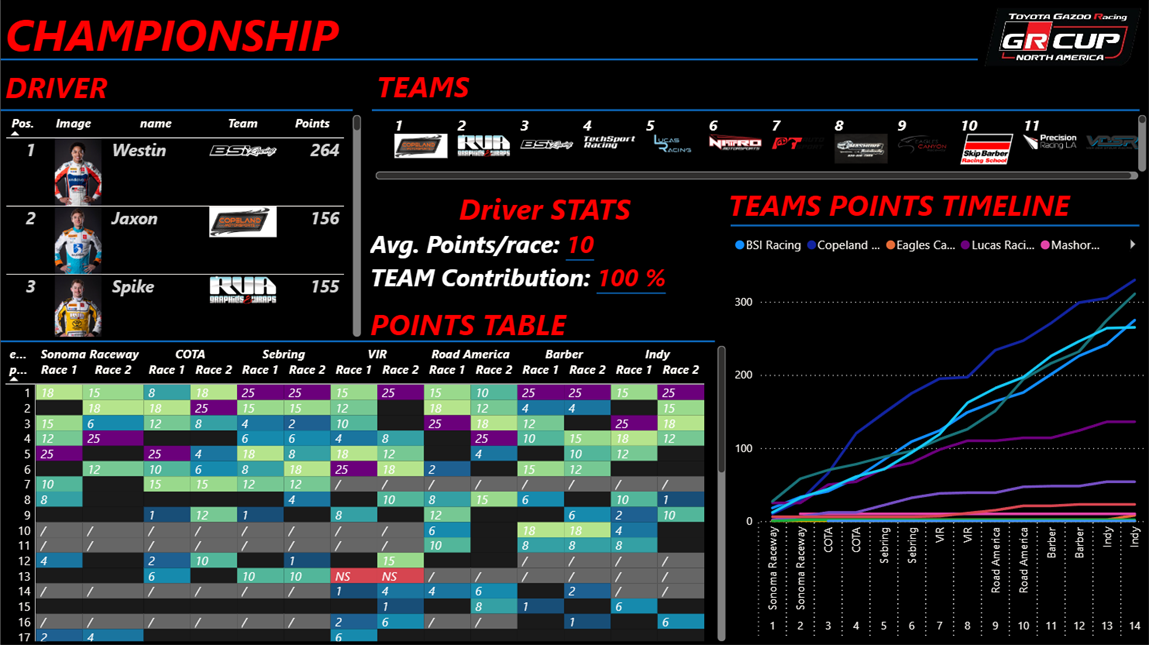

The dashboard page shown, as its layout file describes it:
{"tool":"powerbi","page":{"name":"Chamiponship","canvas":[1280,720],"ordinal":0},"visuals":[{"type":"image","box":[1087.8,0,192.2,82.2],"z":0},{"type":"pivotTable","fields":{"Rows":["t_driver_summary.position"],"Values":["Min(t_points_table.points)"],"Columns":["event_to_order.event_name","t_event_info.meta_session_name"]},"box":[0,380.5,812.2,339.5],"z":1000},{"type":"tableEx","fields":{"Values":["t_driver_summary.position1","t_driver_summary.driver_image_url","t_driver_summary.name","t_team_info.team_image_url","t_driver_summary.total_points"]},"box":[0,123.6,406.4,257.3],"z":2000},{"type":"pivotTable","fields":{"Columns":["t_team_info.SeasonTeamRank","t_team_info.team_image_url"]},"box":[412,123,868,82],"z":3000},{"type":"textbox","box":[0,70,480,54],"z":4000},{"type":"textbox","box":[413.2,69,480.4,54.3],"z":5000},{"type":"textbox","box":[406.3,338.1,304.5,43.1],"z":6000},{"type":"shape","box":[0,112.7,391.8,20],"z":7000},{"type":"shape","box":[412.7,112.7,854.5,20],"z":8000},{"type":"shape","box":[0,370.9,795.3,19],"z":9000},{"type":"textbox","box":[0,0,464.4,76.7],"z":10000},{"type":"shape","box":[0,56.9,1087.7,19.2],"z":11000},{"type":"textbox","box":[406.3,205.3,398.5,132.8],"z":12000},{"type":"lineChart","fields":{"Y":["d_team_points.cum_pointsNum"],"Series":["d_team_points.team_name"],"Category":["d_team_points.event_uuid","d_team_points.meta_event_name"]},"box":[811.8,252.7,468.2,467.3],"z":13000},{"type":"textbox","box":[804.7,205.3,395.9,43.1],"z":14000},{"type":"shape","box":[812.5,241.5,455.4,19.8],"z":15000}]}

Visuals, with their boxes in screenshot pixels (x1, y1, x2, y2), scaled from the page's 1280x720 canvas onto the 1149x645 screenshot:
image: select_region(976, 0, 1148, 74)
pivotTable - t_driver_summary.position x Min(t_points_table.points): select_region(0, 341, 729, 644)
tableEx - t_driver_summary.position1 x t_driver_summary.driver_image_url: select_region(0, 111, 365, 341)
pivotTable - t_team_info.SeasonTeamRank x t_team_info.team_image_url: select_region(370, 110, 1148, 184)
textbox: select_region(0, 63, 431, 111)
textbox: select_region(371, 62, 802, 110)
textbox: select_region(365, 303, 638, 341)
shape: select_region(0, 101, 352, 119)
shape: select_region(370, 101, 1138, 119)
shape: select_region(0, 332, 714, 349)
textbox: select_region(0, 0, 417, 69)
shape: select_region(0, 51, 976, 68)
textbox: select_region(365, 184, 722, 303)
lineChart - d_team_points.cum_pointsNum x d_team_points.team_name: select_region(729, 226, 1148, 644)
textbox: select_region(722, 184, 1078, 223)
shape: select_region(729, 216, 1138, 234)
